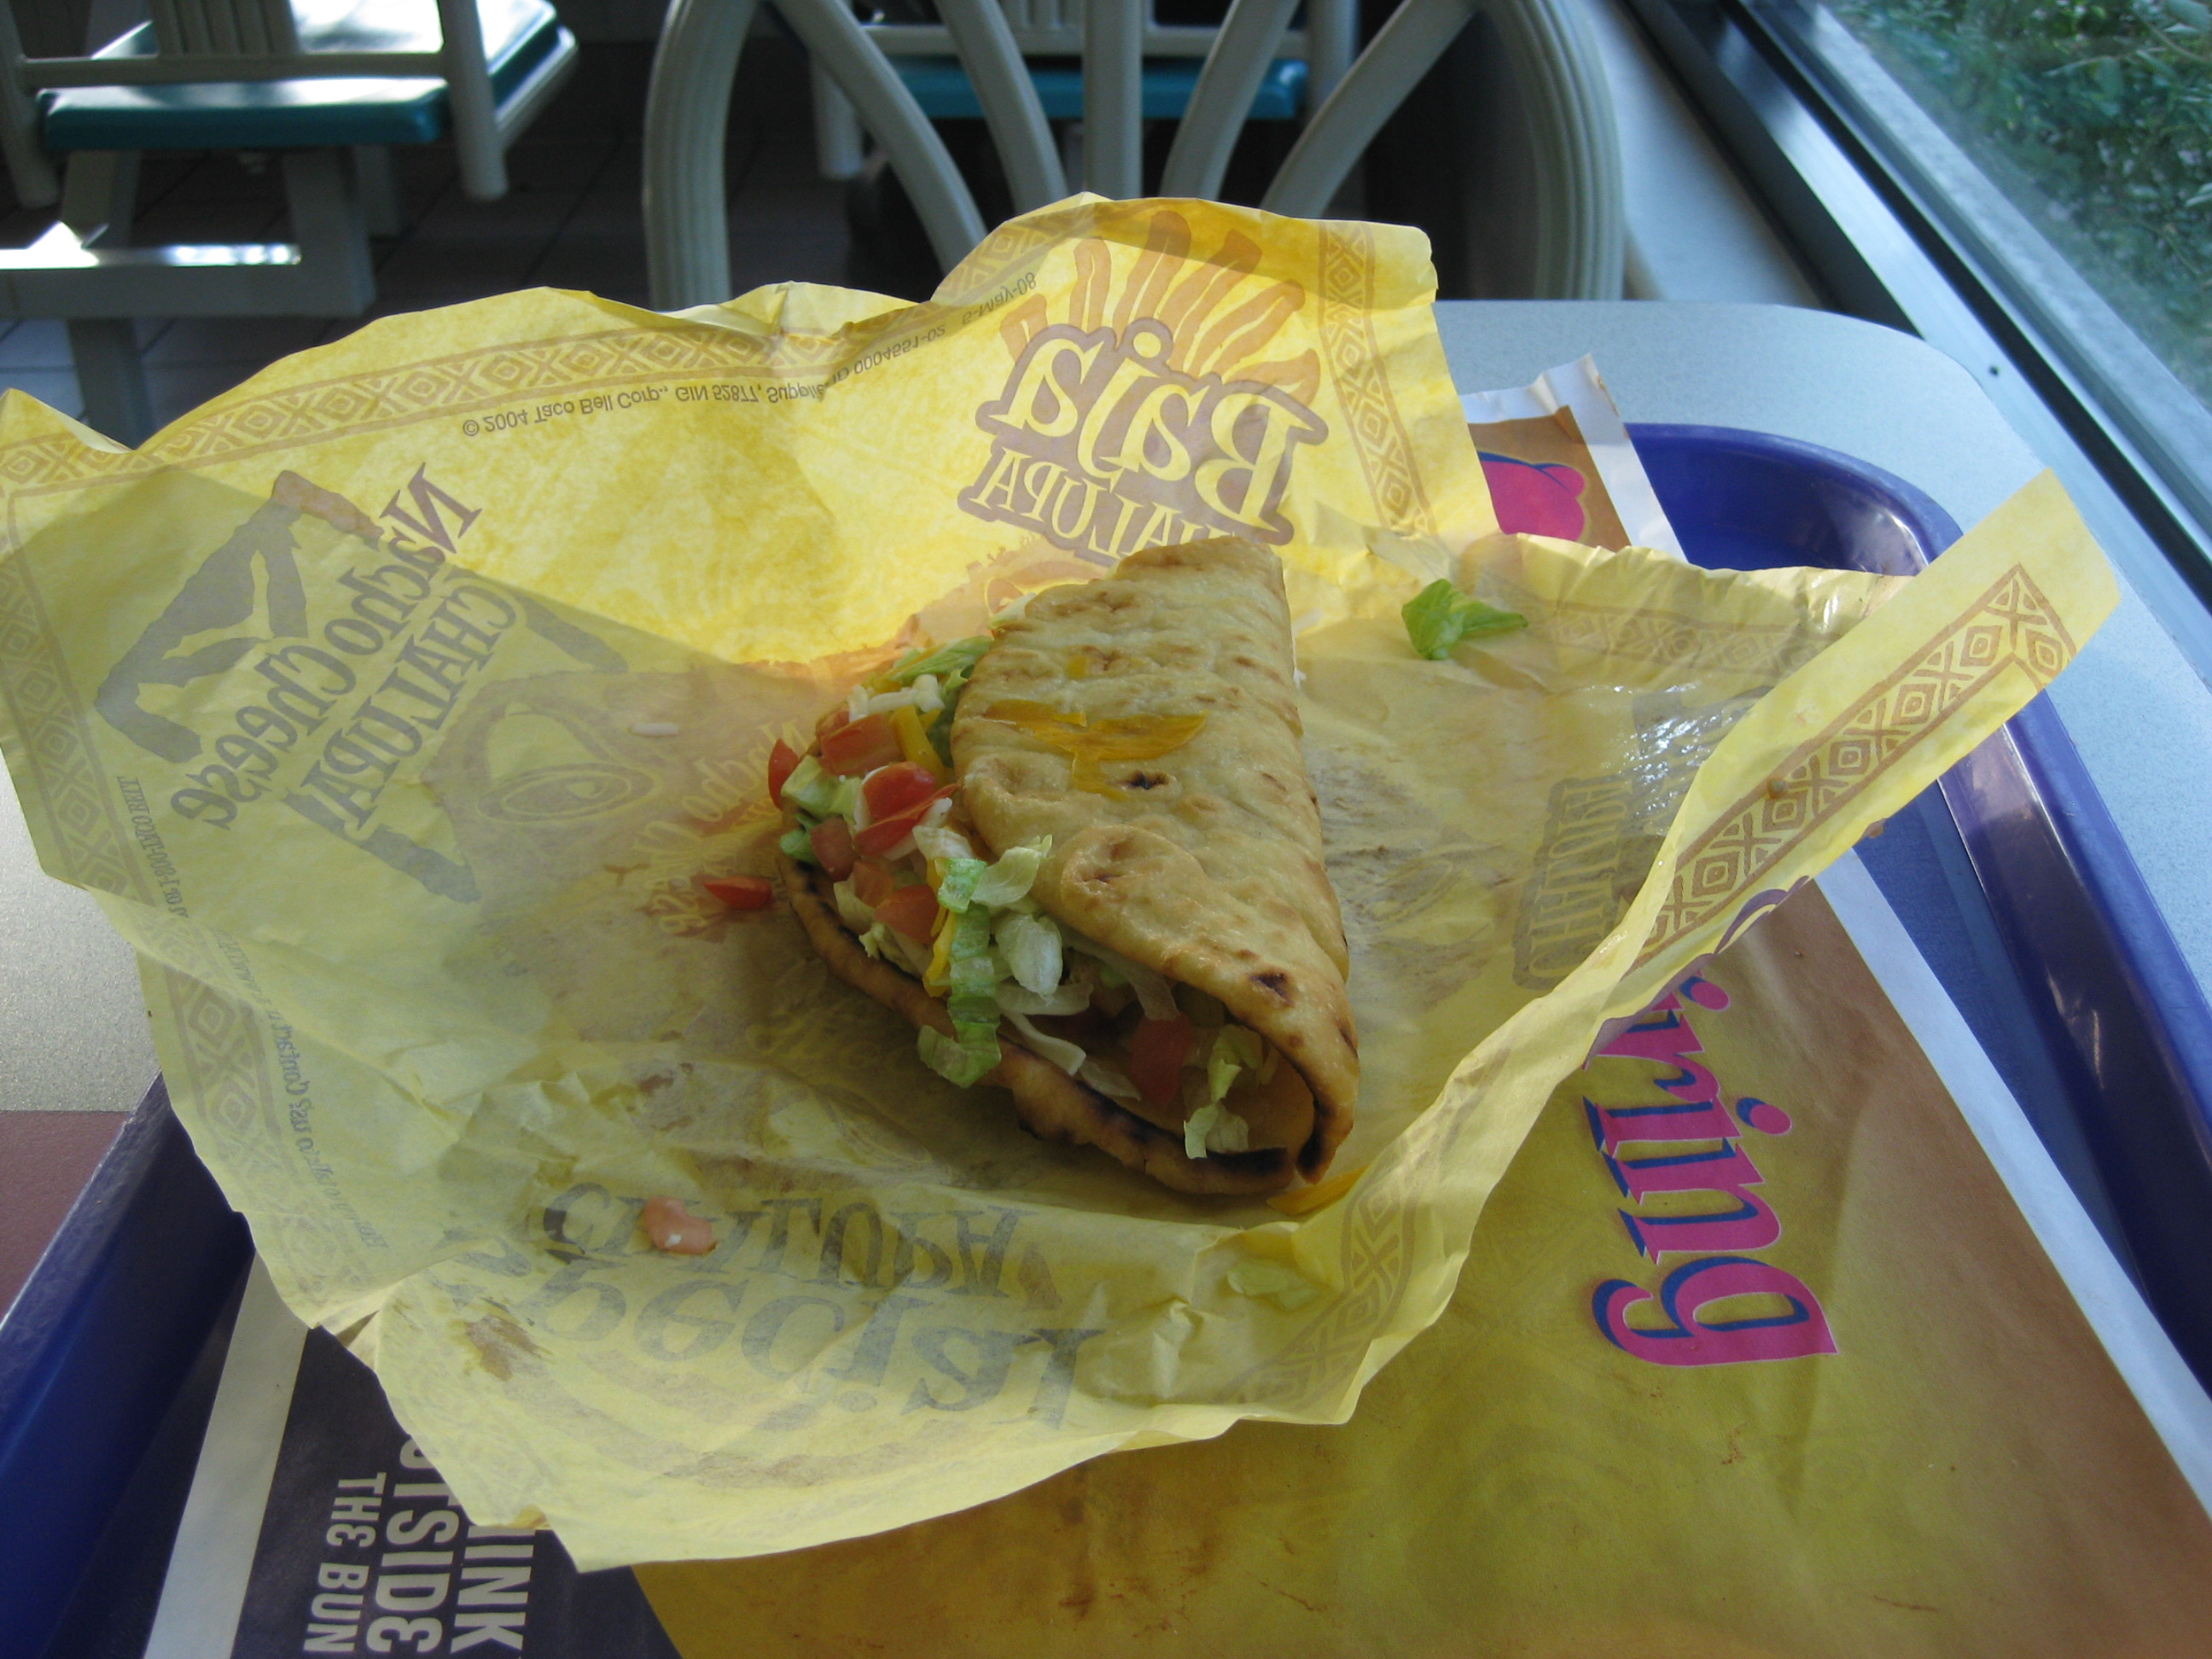taco: (750, 464, 1429, 1269)
